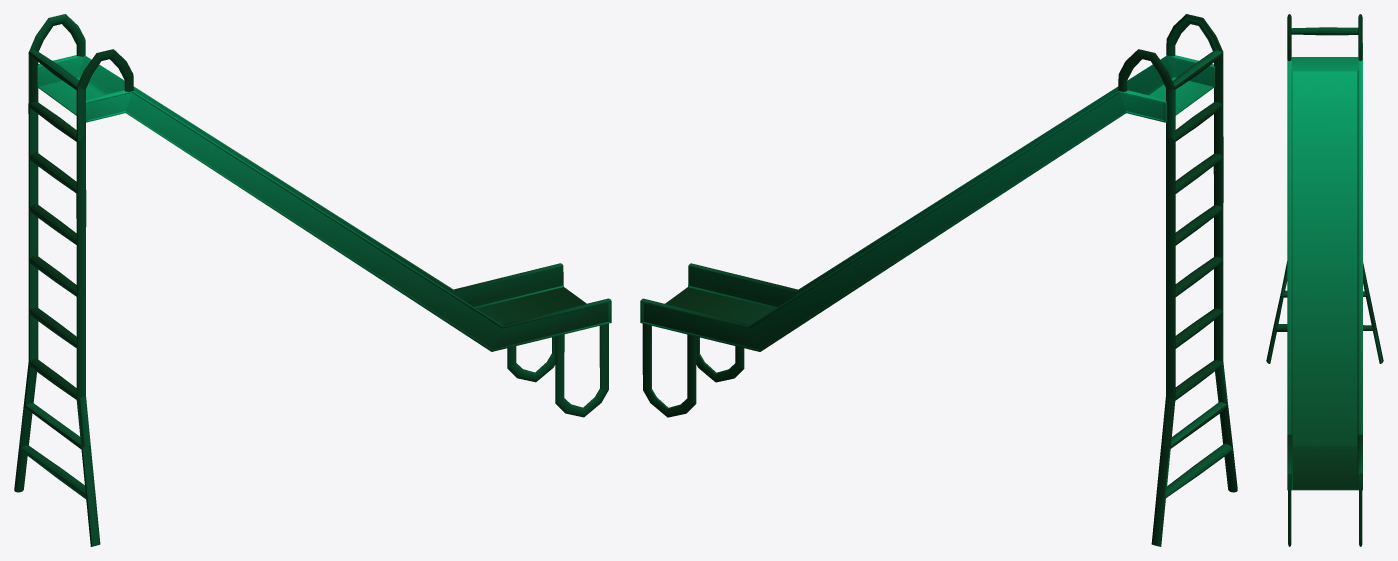
Rendered from Resbalín.fbx.
3 views of the same model, side by side, from view 1: azimuth 30°, elevation 25°; view 2: azimuth 150°, elevation 25°; view 3: azimuth 270°, elevation 25° (orthographic). The views are drawn at different scales.
Parts seen in each view (by area): view 1: Cube, Plane, Cube.001; view 2: Cube, Plane, Cube.001; view 3: Cube, Plane, Cube.001.
Boxes of the visible parts, x1,y1,x2,y2 form: Cube: [37, 55, 611, 351]; Plane: [14, 14, 133, 546]; Cube.001: [507, 323, 608, 417]; Cube: [640, 55, 1214, 351]; Plane: [1118, 14, 1237, 546]; Cube.001: [642, 323, 744, 417]; Cube: [1287, 43, 1362, 490]; Plane: [1266, 14, 1383, 363]; Cube.001: [1288, 490, 1362, 546].
Bounding box in the file's own units: 1125 × 974 × 290.
1 material, 1 textured.
